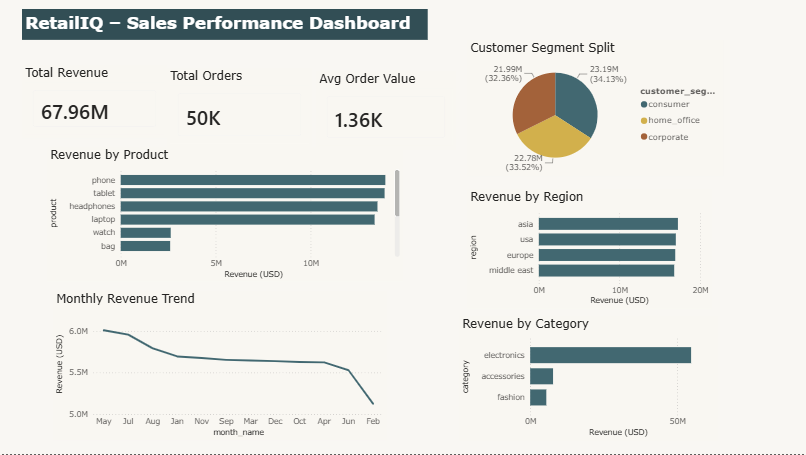

Layout of this report page (visuals, bound fields, positions):
{"tool":"powerbi","page":{"name":"Page 1","canvas":[1280,720],"ordinal":0},"visuals":[{"type":"clusteredBarChart","title":"Revenue by Region","fields":{"Category":["dim_region.region"],"Y":["Sum(fact_sales.total_sales)"]},"box":[741.4,300,387.9,189.7],"z":0},{"type":"clusteredBarChart","title":"Revenue by Product","fields":{"Category":["dim_product.product"],"Y":["Sum(fact_sales.total_sales)"]},"box":[74.6,233.3,565.1,214.3],"z":1000},{"type":"pieChart","title":"Customer Segment Split","fields":{"Category":["dim_customer.customer_segment"],"Y":["Sum(fact_sales.total_sales)"]},"box":[741.4,63.8,406.9,215.5],"z":2000},{"type":"lineChart","title":"Monthly Revenue Trend","fields":{"Y":["Sum(fact_sales.total_sales)"],"Category":["dim_date.month_name"]},"box":[84.1,461.9,528.6,236.5],"z":3000},{"type":"cardVisual","title":"Total Revenue","fields":{"Data":["Sum(fact_sales.total_sales)"]},"box":[34.9,103.2,230.2,115.9],"z":4000},{"type":"cardVisual","title":"Total Orders","fields":{"Data":["CountNonNull(fact_sales.order_id)"]},"box":[265.1,107.9,230.2,125.4],"z":5000},{"type":"cardVisual","title":"Avg Order Value","fields":{"Data":["Avg(fact_sales.total_sales)"]},"box":[501.6,112.7,222.2,123.8],"z":6000},{"type":"clusteredBarChart","title":"Revenue by Category","fields":{"Category":["dim_product.category"],"Y":["Sum(fact_sales.total_sales)"]},"box":[728.6,501.6,411.1,196.8],"z":7000},{"type":"textbox","box":[34.9,14.3,644.4,49.2],"z":8000}]}

Visuals, with their boxes in screenshot pixels (x1, y1, x2, y2), scaled from the page's 1280x720 canvas onto the 806x455 screenshot:
"Revenue by Region" clusteredBarChart: select_region(467, 190, 711, 309)
"Revenue by Product" clusteredBarChart: select_region(47, 147, 403, 283)
"Customer Segment Split" pieChart: select_region(467, 40, 723, 177)
"Monthly Revenue Trend" lineChart: select_region(53, 292, 386, 441)
"Total Revenue" cardVisual: select_region(22, 65, 167, 138)
"Total Orders" cardVisual: select_region(167, 68, 312, 147)
"Avg Order Value" cardVisual: select_region(316, 71, 456, 149)
"Revenue by Category" clusteredBarChart: select_region(459, 317, 718, 441)
textbox: select_region(22, 9, 428, 40)
